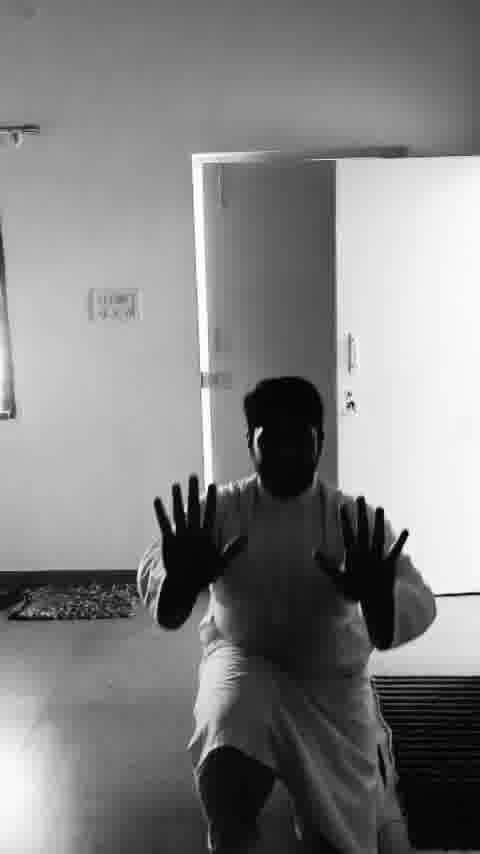duck: (139, 363, 434, 854)
